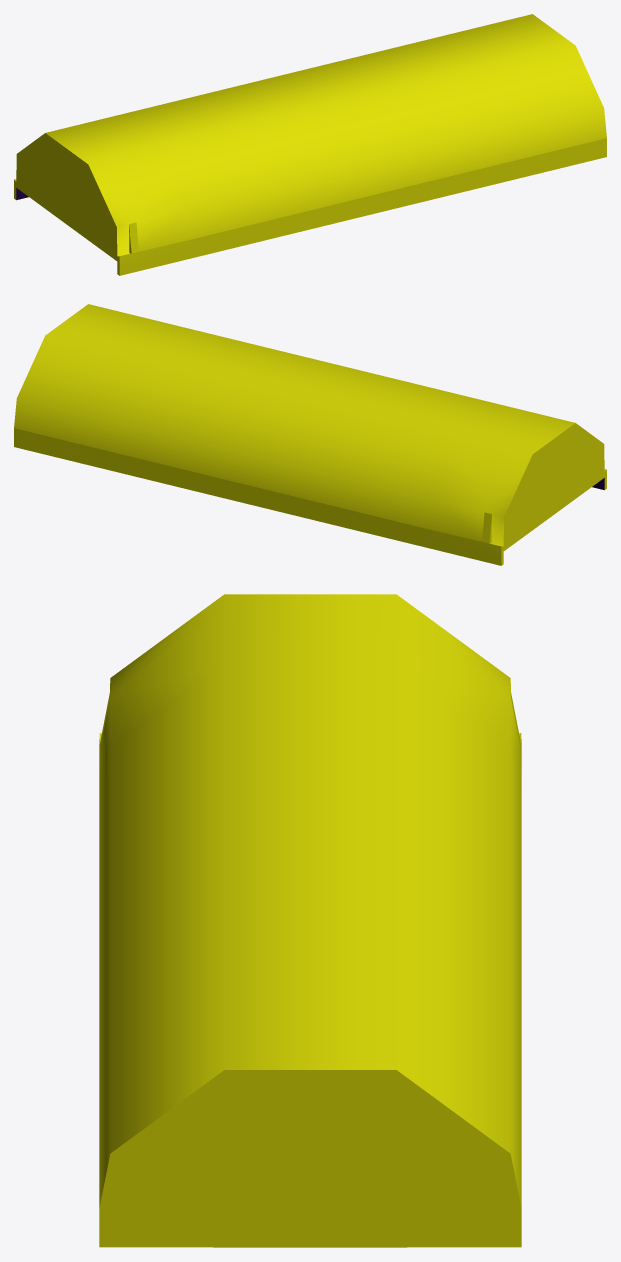
The model's file is Hallway_Roof_Type_7.fbx.
3 renders of one model, top to bottom at view 1: azimuth 30°, elevation 25°; view 2: azimuth 150°, elevation 25°; view 3: azimuth 270°, elevation 25°, orthographic. The views are drawn at different scales.
Visible parts, largest first — view 1: Hallway_Roof_Type_7; view 2: Hallway_Roof_Type_7; view 3: Hallway_Roof_Type_7.
Boxes of the visible parts, bbox=[...] form: Hallway_Roof_Type_7: bbox=[14, 14, 606, 275]; Hallway_Roof_Type_7: bbox=[14, 304, 606, 565]; Hallway_Roof_Type_7: bbox=[99, 594, 521, 1247].
Size of the model in its own units: 2496 by 435 by 937.
